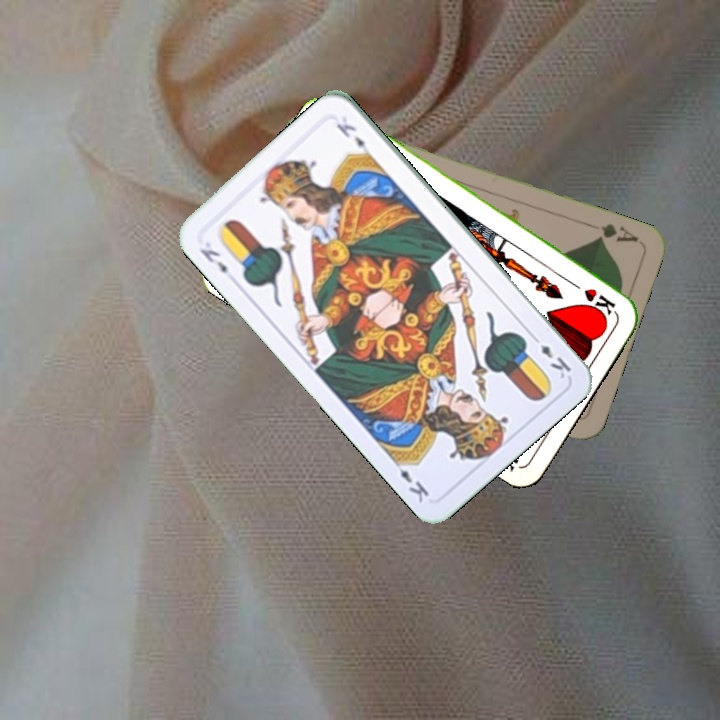EK: (527, 330, 574, 382), (195, 238, 230, 277)
GA: (584, 219, 641, 245)
HK: (564, 276, 618, 317)
